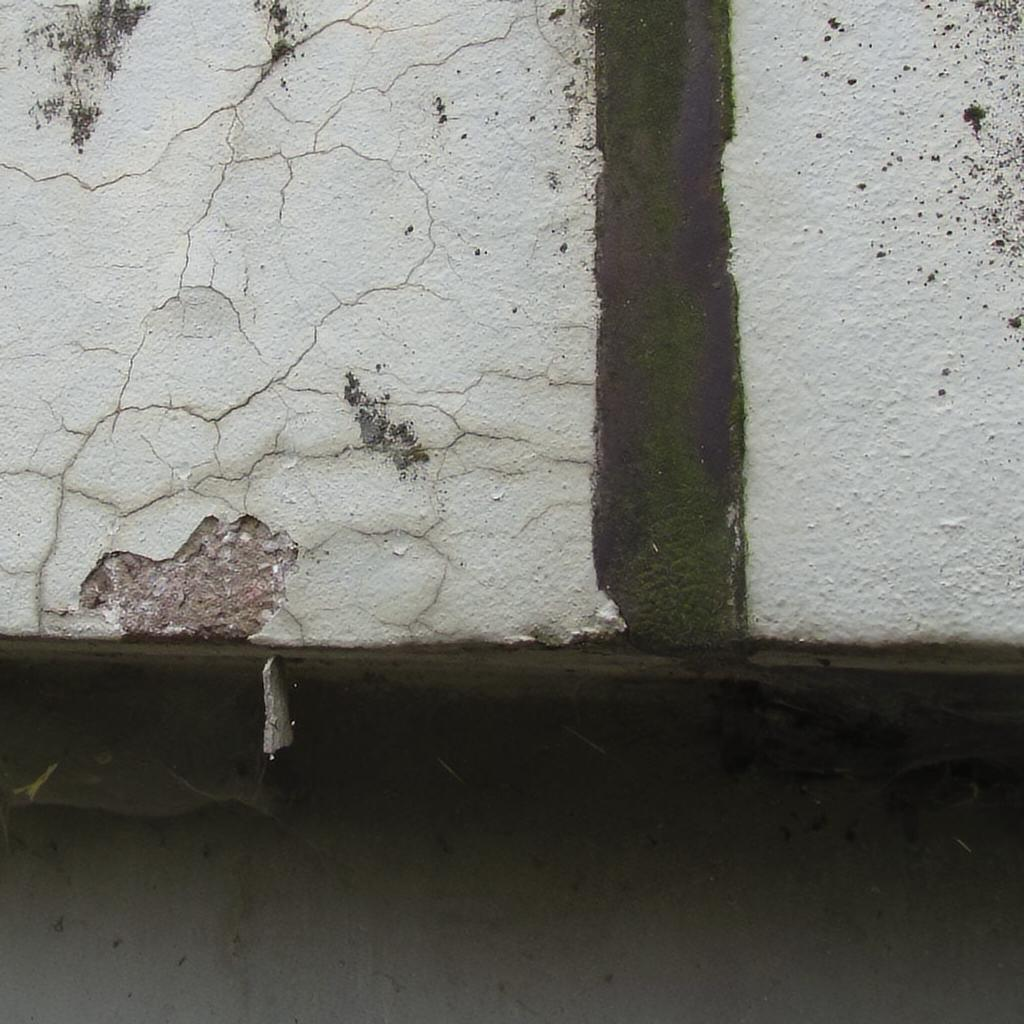spalling: (80, 516, 298, 639)
